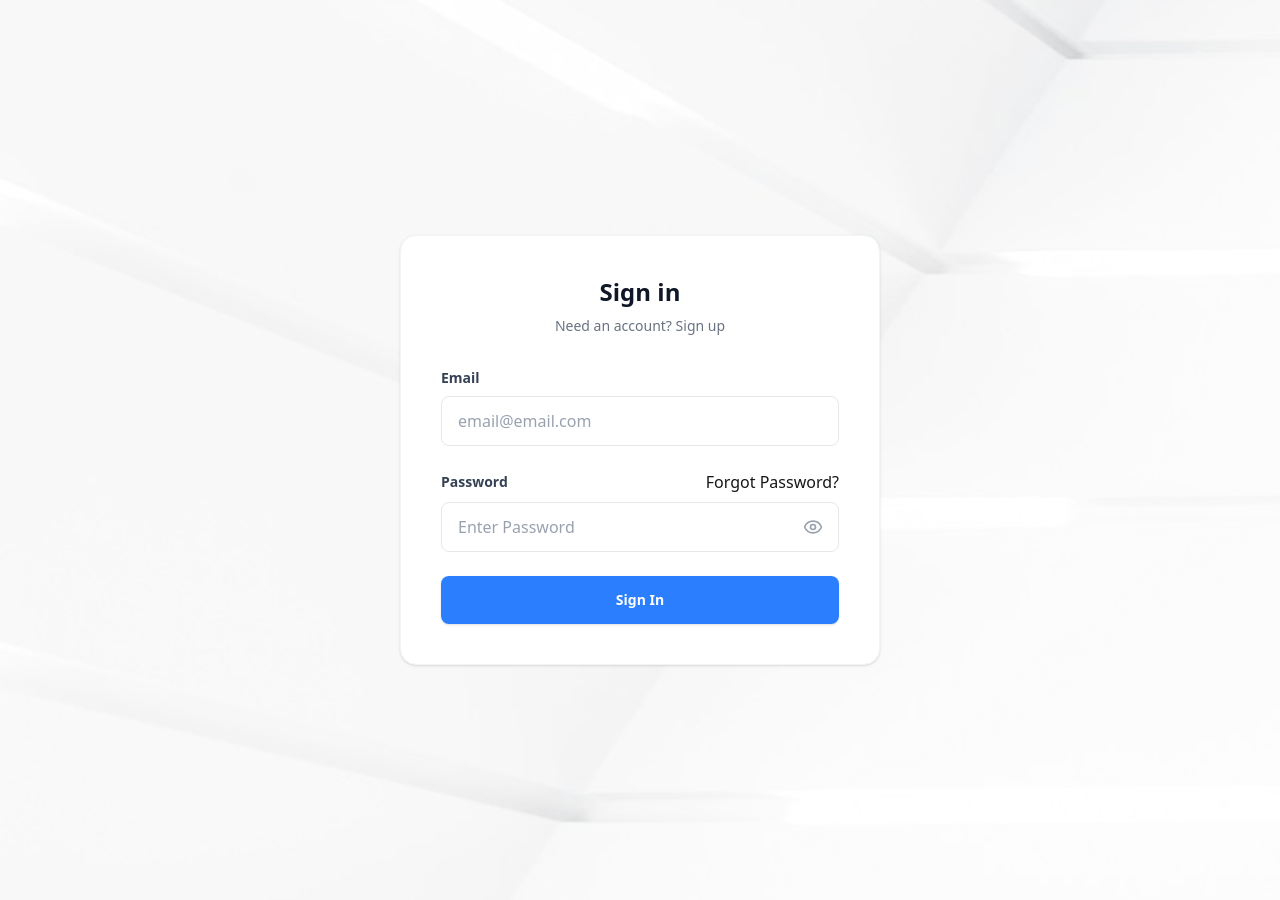
it: Login Page › handles network error
In the field with placeholder "email@email.com": (640,421) top-left (441, 396), bottom-right (839, 446), type "test@test.com"
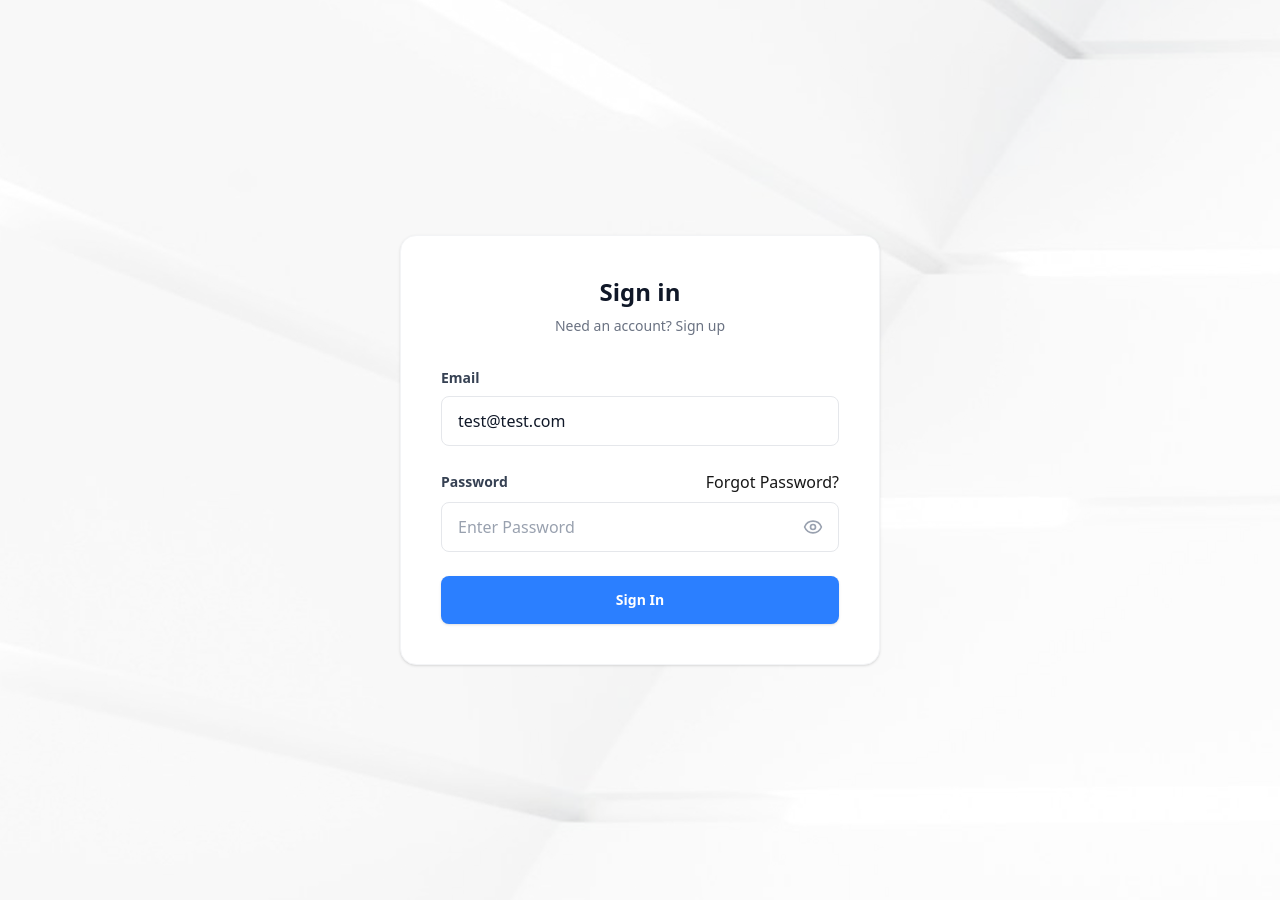
In the password field with placeholder "Enter Password": (640,527) top-left (441, 502), bottom-right (839, 552), type "password123"
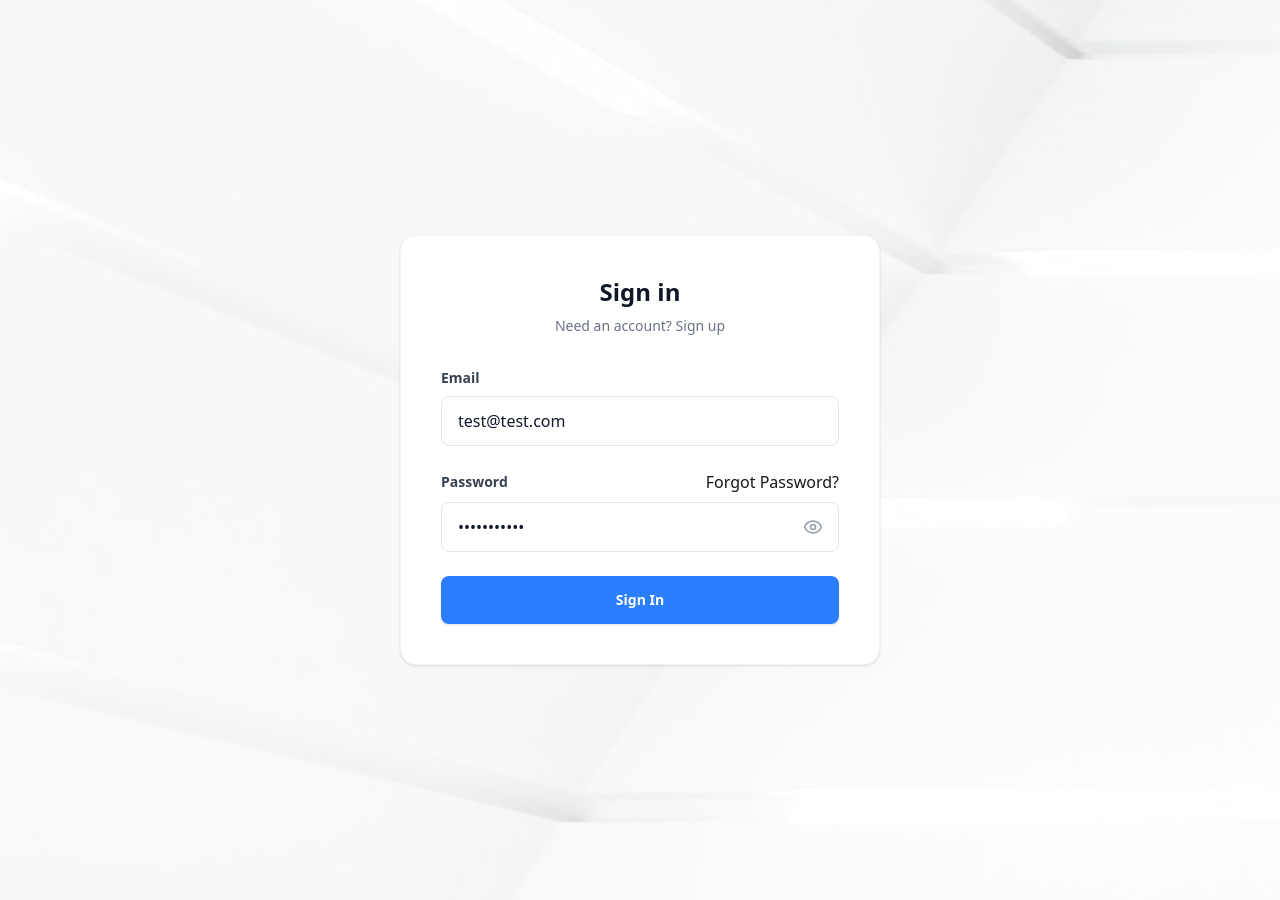
Click the button "Sign In": (640,600) top-left (441, 576), bottom-right (839, 624)
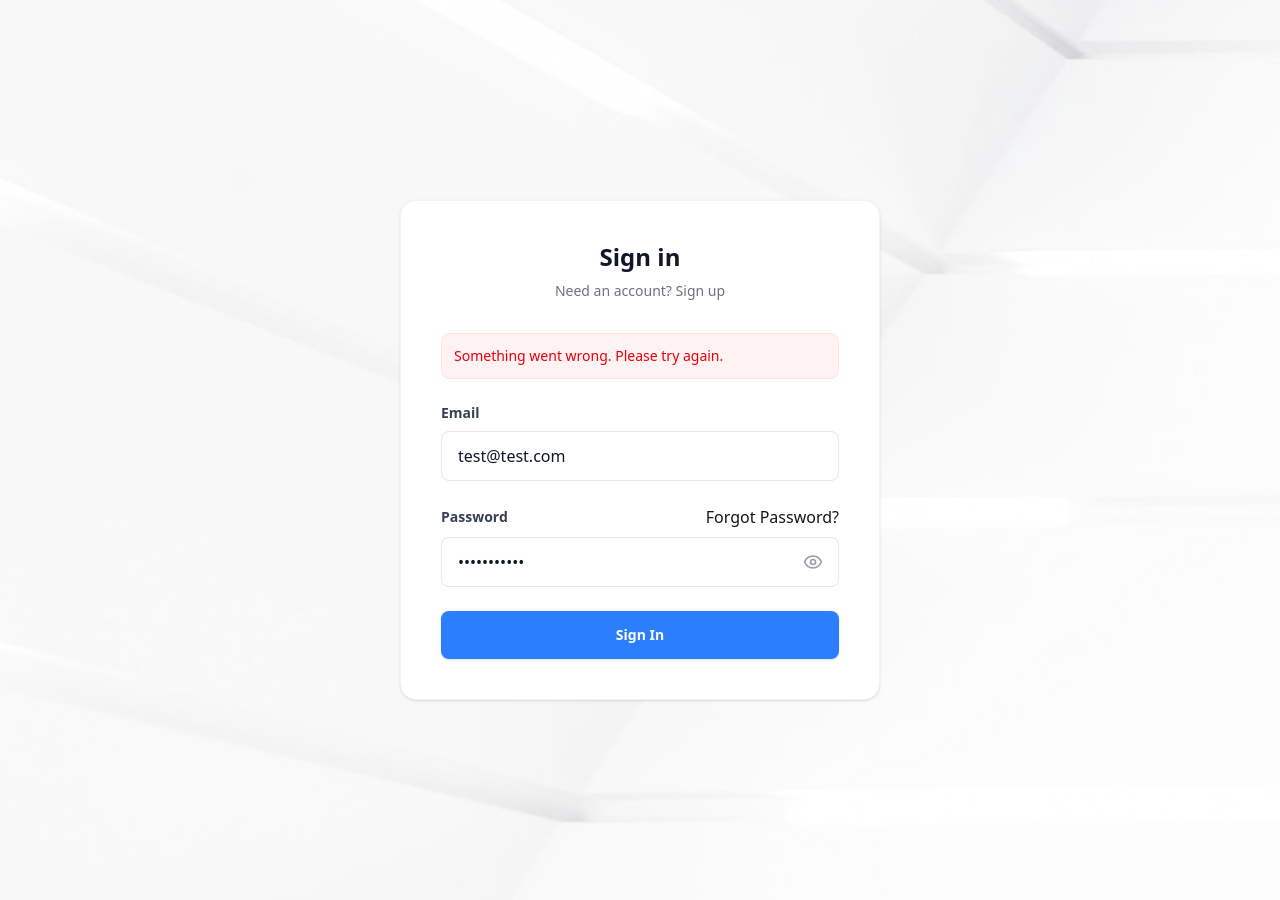
expect the text "Something went wrong. Please try again." is shown: met, box top-left (441, 333), bottom-right (839, 379)
